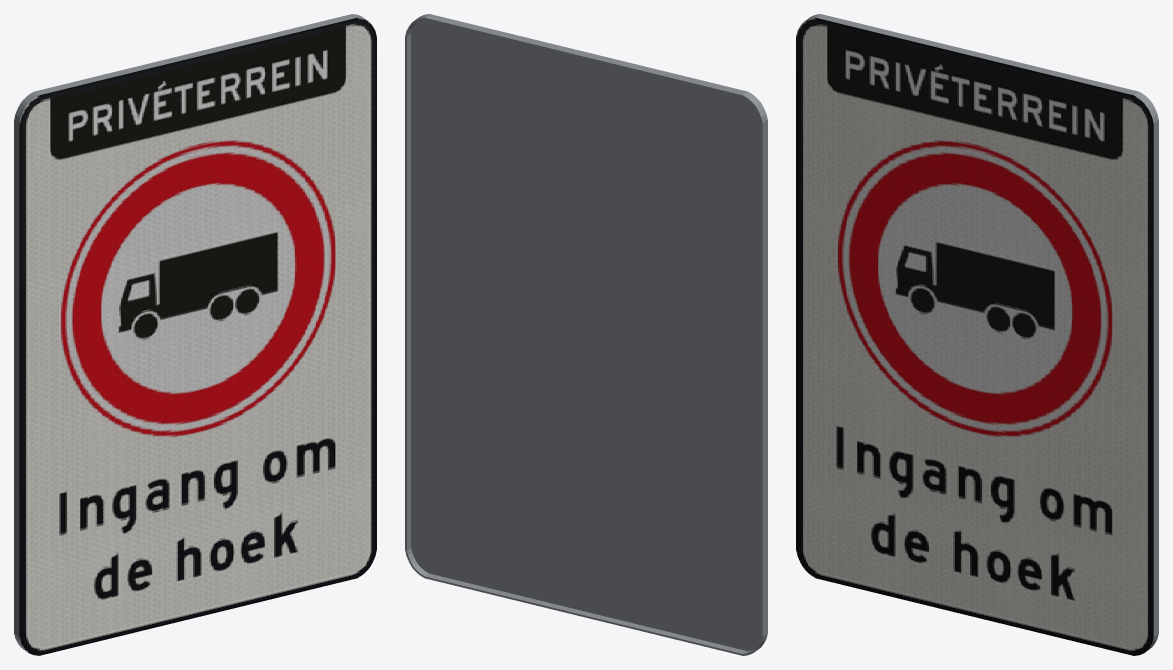
3 renders of one model, left to right at view 1: azimuth 30°, elevation 25°; view 2: azimuth 150°, elevation 25°; view 3: azimuth 330°, elevation 25°, orthographic.
Visible parts, largest first — view 1: cat_08253462d2390e64; view 2: cat_08253462d2390e64; view 3: cat_08253462d2390e64.
Part boxes in pixels (box(x1,y1,x2,y2)): cat_08253462d2390e64: box(14, 14, 376, 655); cat_08253462d2390e64: box(405, 14, 767, 655); cat_08253462d2390e64: box(796, 14, 1158, 655).
Bounding box in the file's own units: 0.6 × 0.015 × 0.8989.
2 materials, 1 textured.
